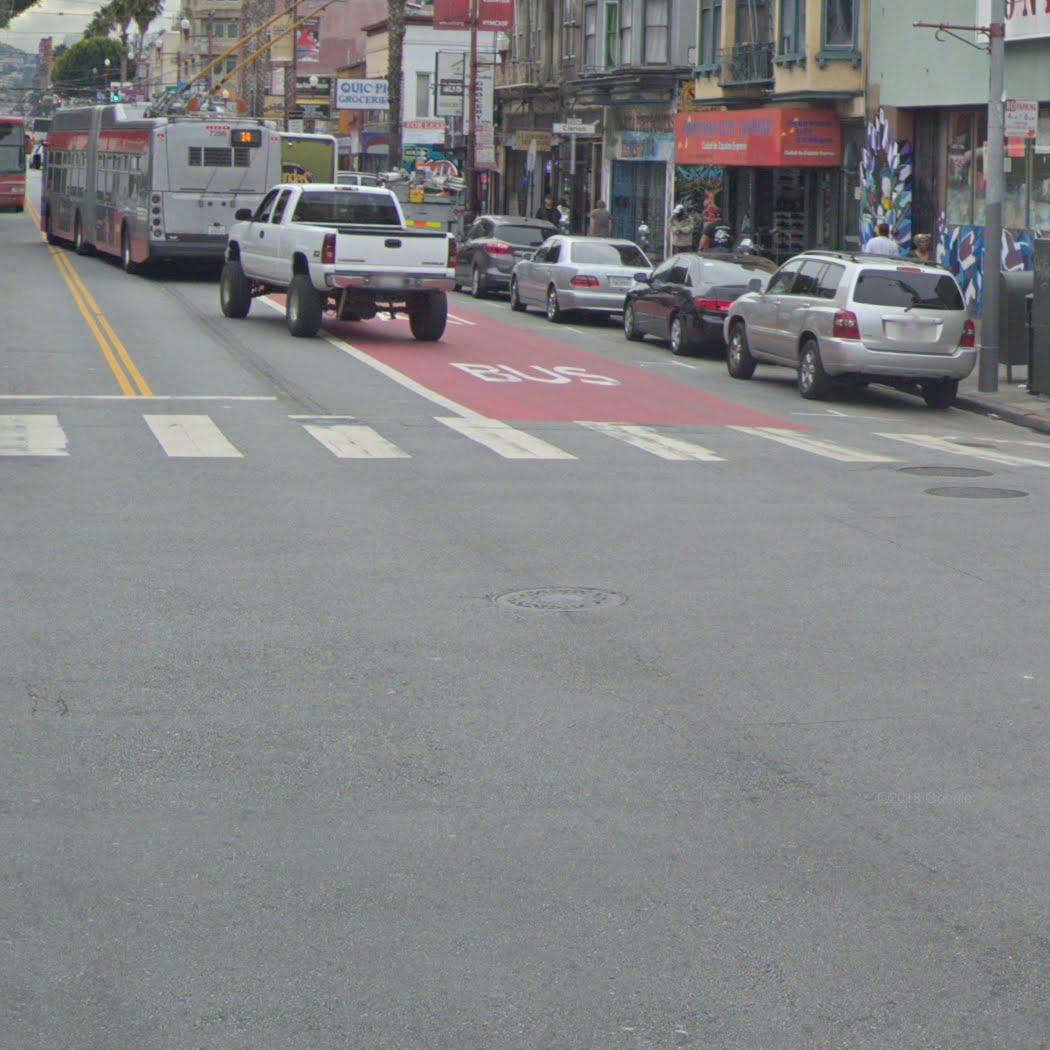No Parking: (1002, 98, 1039, 139)
